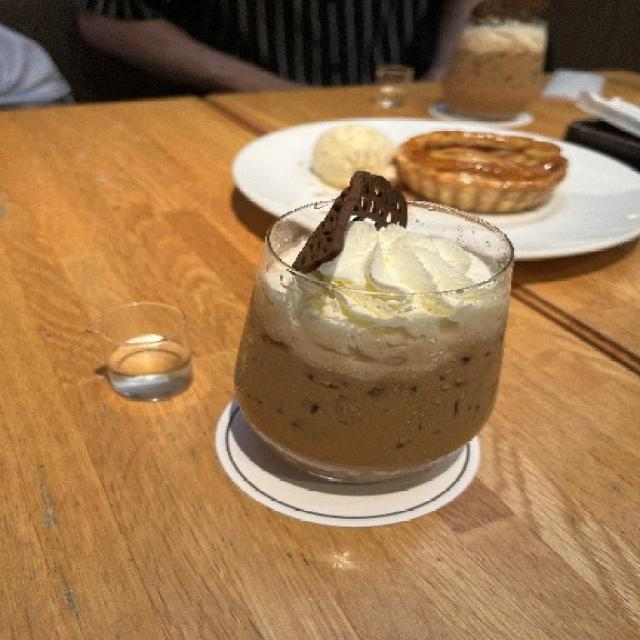Cup: (233, 197, 514, 483), (436, 18, 566, 120), (89, 300, 192, 401), (368, 61, 420, 116)
Plate: (231, 116, 639, 261)
